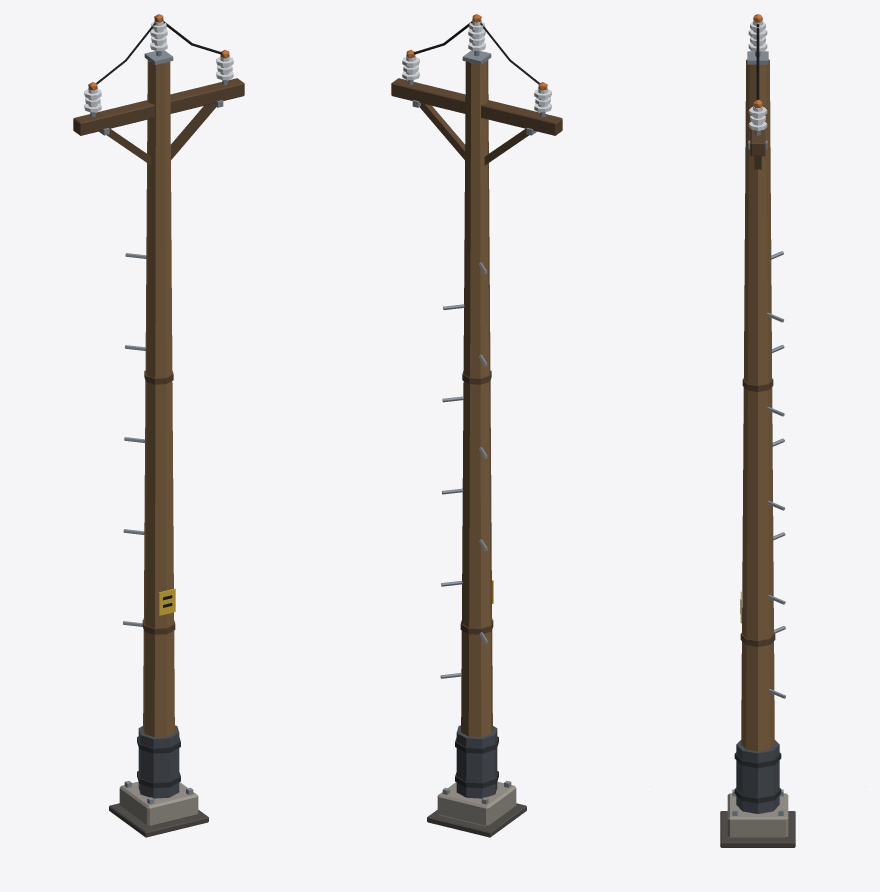
The model's file is poteau_electrique.glb.
3 views of the same model, side by side, from view 1: azimuth 30°, elevation 25°; view 2: azimuth 150°, elevation 25°; view 3: azimuth 270°, elevation 25° (orthographic).
Parts seen in each view (by area): view 1: fut.002, pieces_bois_sombre.004, sabot.002, pieces_beton.006, pieces_blanc.018, pieces_pierre_sombre.006, pieces_acier.018, pieces_fonte.012; view 2: fut.002, pieces_bois_sombre.004, sabot.002, pieces_beton.006, pieces_acier.018, pieces_blanc.018, pieces_pierre_sombre.006, pieces_fonte.012; view 3: fut.002, sabot.002, pieces_beton.006, pieces_acier.018, pieces_pierre_sombre.006, pieces_bois_sombre.004, pieces_blanc.018, pieces_fonte.012.
Boxes of the visible parts, <box> form: fut.002: <box>143,60,174,737</box>; pieces_bois_sombre.004: <box>73,78,244,634</box>; sabot.002: <box>138,725,179,798</box>; pieces_beton.006: <box>119,781,198,826</box>; pieces_blanc.018: <box>84,20,233,112</box>; pieces_pierre_sombre.006: <box>109,803,208,837</box>; pieces_acier.018: <box>90,50,227,804</box>; pieces_fonte.012: <box>137,736,180,788</box>; fut.002: <box>461,60,492,737</box>; pieces_bois_sombre.004: <box>391,78,562,634</box>; sabot.002: <box>456,725,497,798</box>; pieces_beton.006: <box>437,781,516,826</box>; pieces_acier.018: <box>408,50,545,804</box>; pieces_blanc.018: <box>402,20,551,112</box>; pieces_pierre_sombre.006: <box>427,803,526,837</box>; pieces_fonte.012: <box>455,736,498,788</box>; fut.002: <box>741,59,774,751</box>; sabot.002: <box>736,740,779,813</box>; pieces_beton.006: <box>727,793,788,838</box>; pieces_acier.018: <box>732,51,785,815</box>; pieces_pierre_sombre.006: <box>720,811,795,847</box>; pieces_bois_sombre.004: <box>740,106,775,646</box>; pieces_blanc.018: <box>748,20,767,130</box>; pieces_fonte.012: <box>734,752,781,803</box>.
Size of the model in its own units: 1 by 4.18 by 1.
